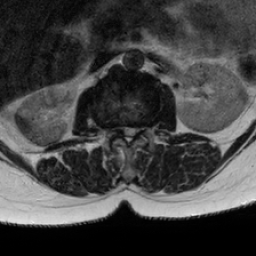CCS_normal: (124, 118, 131, 150)
LFS_severe_stenosis: (138, 115, 146, 139)
LLS_stenosis: (131, 118, 138, 140)
RFS_severe_stenosis: (110, 115, 117, 138)
RLS_severe_stenosis: (117, 117, 124, 139)
